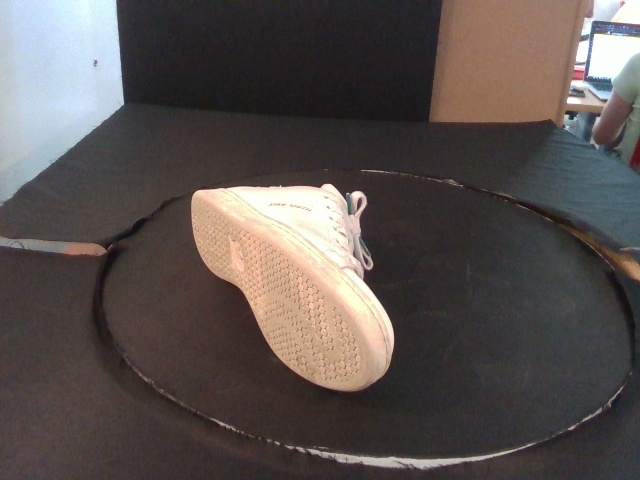shoe: (191, 184, 397, 394)
